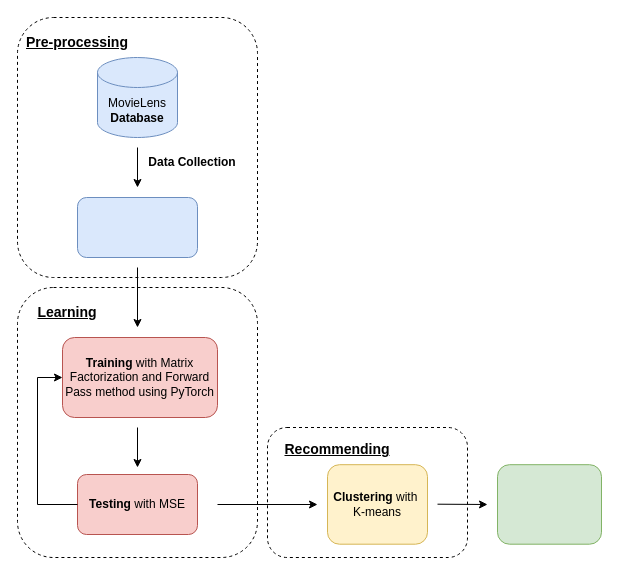
This 619x575 diagram has some shape labels left out. Here are the shapes that lost their labels. From the top down, the centre of each, then its label:
(137,227): Cleaning Data with Pandas
(549,504): Clusters of similar films
